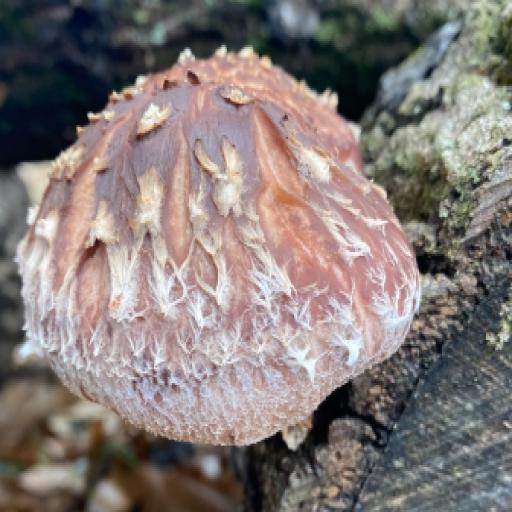Shiitake Mushroom: (0, 0, 461, 506)
